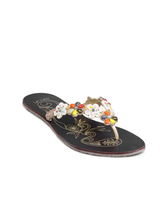shoes: (28, 88, 152, 159)
